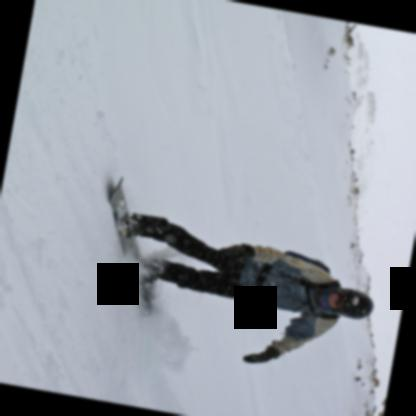backpack: (263, 247, 340, 291)
